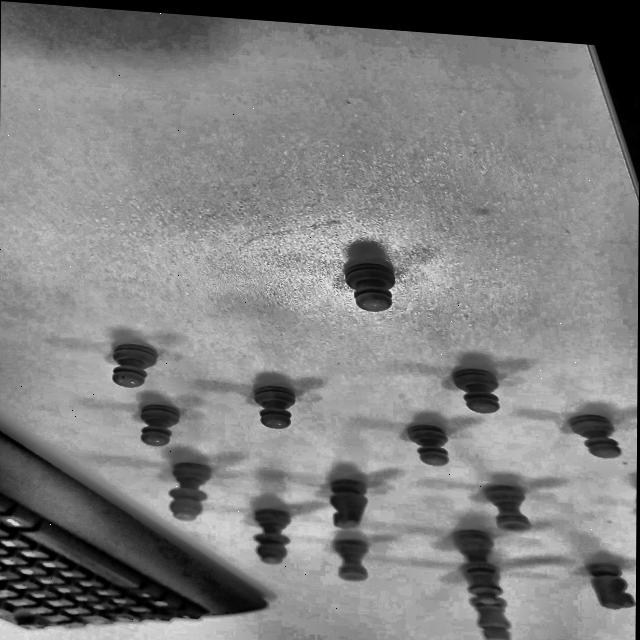white-bishop: (168, 461, 210, 522), (253, 508, 289, 564)
white-king: (444, 560, 523, 640)
white-knight: (322, 475, 367, 531), (586, 560, 634, 609)
white-pawn: (331, 252, 401, 314), (572, 412, 624, 458), (452, 367, 501, 414), (112, 342, 157, 389), (253, 384, 294, 430), (406, 423, 448, 466), (138, 404, 177, 448)
white-queen: (432, 527, 511, 605)
white-rook: (471, 476, 540, 532), (329, 537, 374, 582)
